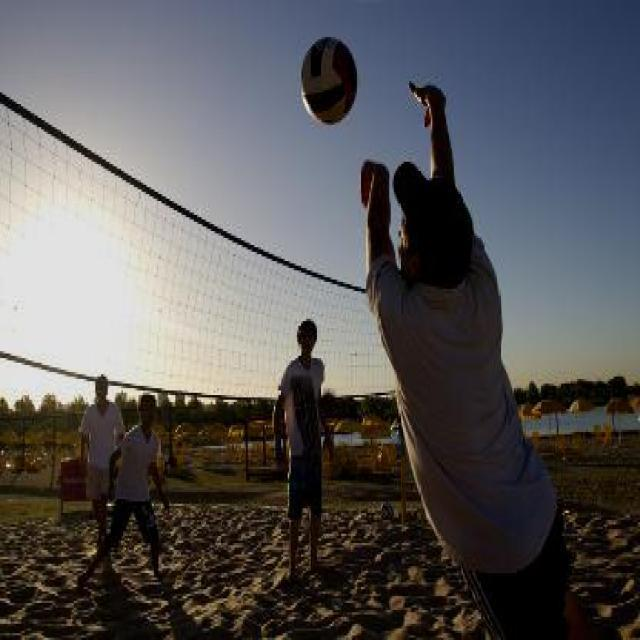volleyball: (300, 36, 357, 125)
